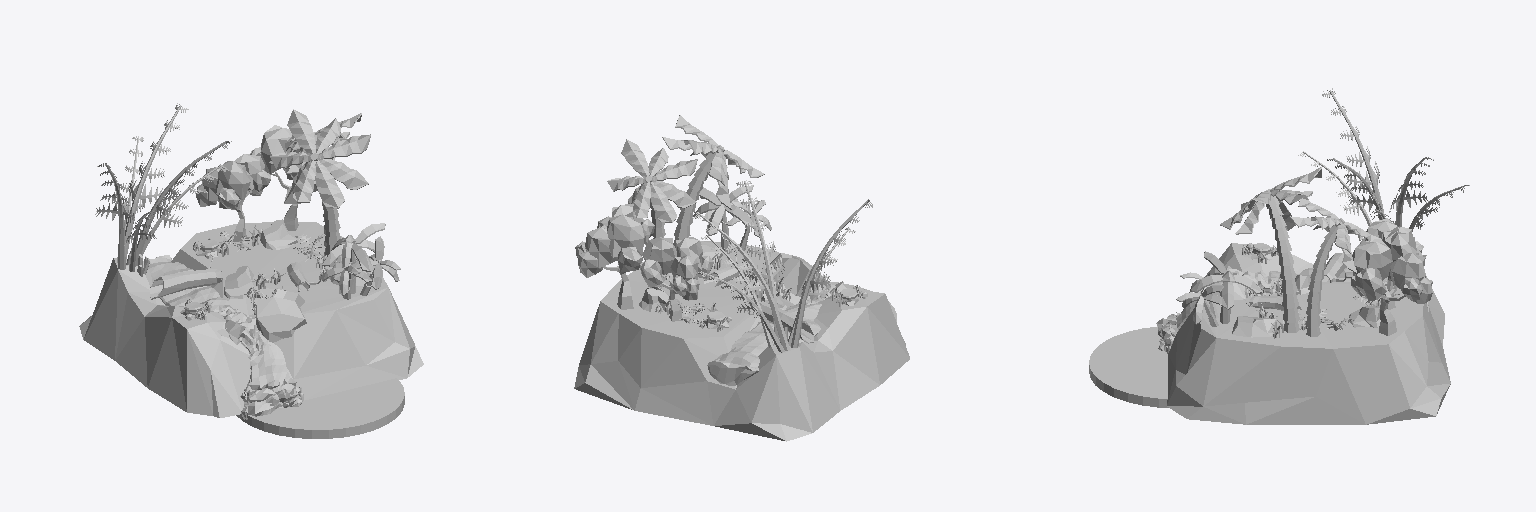
The model's file is monde2final.obj.
3 renders of one model, left to right at view 1: azimuth 30°, elevation 25°; view 2: azimuth 150°, elevation 25°; view 3: azimuth 270°, elevation 25°, orthographic.
Visible parts, largest first — view 1: Landscape.002_Landscape.000, Cylindre, Landscape.003_Landscape.004; view 2: Landscape.002_Landscape.000, Landscape.003_Landscape.004; view 3: Landscape.002_Landscape.000, Cylindre, Landscape.003_Landscape.004.
Boxes of the visible parts, x1,y1,x2,y2 form: Landscape.002_Landscape.000: [79, 103, 423, 417]; Cylindre: [236, 378, 404, 438]; Landscape.003_Landscape.004: [143, 255, 301, 419]; Landscape.002_Landscape.000: [574, 115, 909, 441]; Landscape.003_Landscape.004: [707, 284, 835, 385]; Landscape.002_Landscape.000: [1167, 88, 1469, 424]; Cylindre: [1089, 326, 1168, 407]; Landscape.003_Landscape.004: [1156, 268, 1427, 351].
Bounding box in the file's own units: 40.57 × 34.28 × 50.47.